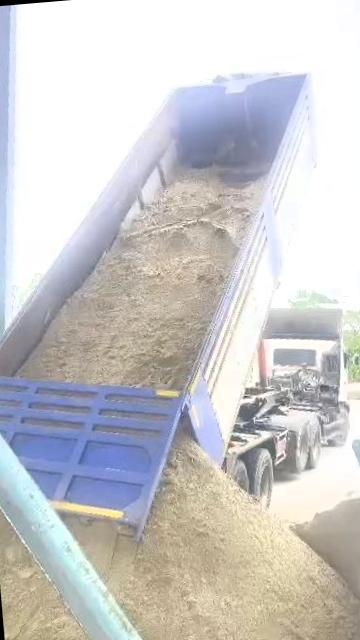sand: (69, 436, 360, 640), (20, 170, 261, 386), (0, 512, 141, 640), (276, 481, 360, 599)
